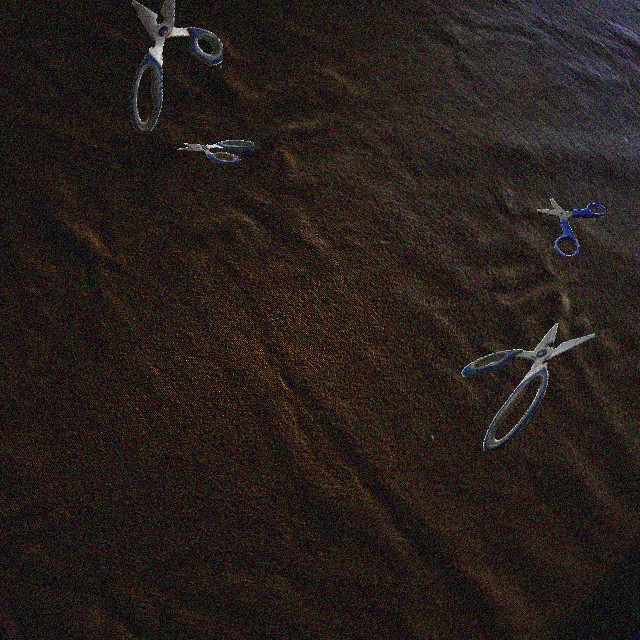scissors: (461, 323, 595, 451), (130, 0, 223, 131), (537, 198, 605, 256), (177, 140, 254, 164)
